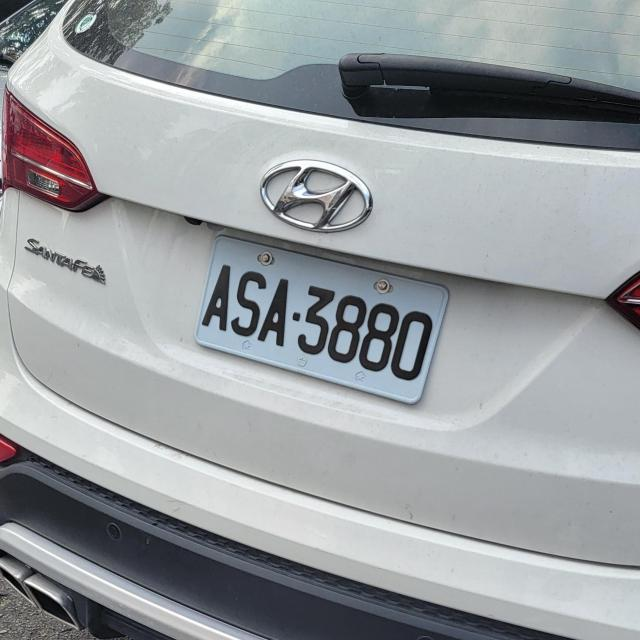W: (188, 232, 451, 400)
